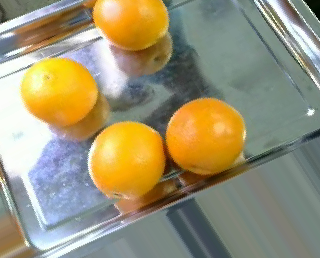Orange: (87, 120, 166, 200), (166, 95, 245, 175), (21, 55, 98, 125), (93, 1, 170, 51)
